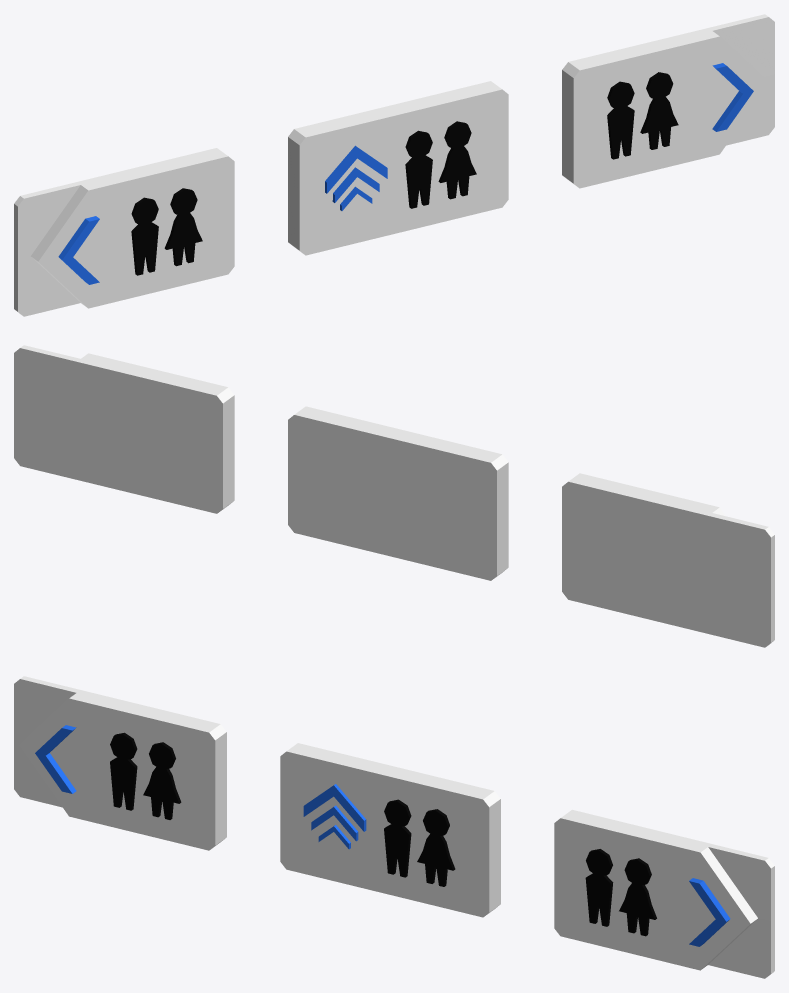
File: PaiHongnam_WhiteBlueBlack.fbx
3 renders of one model, top to bottom at view 1: azimuth 30°, elevation 25°; view 2: azimuth 150°, elevation 25°; view 3: azimuth 330°, elevation 25°, orthographic.
Parts seen in each view (by area): view 1: L_BasePai, F_BasePai, R_BasePai, L_Women, F_Women, R_Women, R_Men, F_Men, L_Men, L_Looksorn, R_Looksorn, F_Looksorn3; view 2: F_BasePai, R_BasePai, L_BasePai; view 3: R_BasePai, F_BasePai, L_BasePai, R_Women, F_Women, L_Women, F_Men, L_Men, R_Men, L_Looksorn, R_Looksorn, F_Looksorn3 (+1 smaller).
Boxes of the visible parts, left/top/right/bottom form: L_BasePai: left=14, top=148, right=234, bottom=316; F_BasePai: left=288, top=81, right=508, bottom=255; R_BasePai: left=562, top=14, right=774, bottom=188; L_Women: left=164, top=188, right=202, bottom=266; F_Women: left=438, top=121, right=476, bottom=199; R_Women: left=640, top=72, right=678, bottom=149; R_Men: left=607, top=81, right=634, bottom=159; F_Men: left=405, top=130, right=432, bottom=208; L_Men: left=131, top=197, right=158, bottom=275; L_Looksorn: left=58, top=216, right=99, bottom=284; R_Looksorn: left=712, top=63, right=753, bottom=131; F_Looksorn3: left=325, top=145, right=387, bottom=193; F_BasePai: left=288, top=406, right=508, bottom=580; R_BasePai: left=14, top=345, right=234, bottom=513; L_BasePai: left=562, top=473, right=774, bottom=647; R_BasePai: left=554, top=809, right=774, bottom=978; F_BasePai: left=280, top=743, right=500, bottom=917; L_BasePai: left=14, top=676, right=226, bottom=850; R_Women: left=619, top=858, right=656, bottom=936; F_Women: left=417, top=809, right=455, bottom=886; L_Women: left=143, top=742, right=181, bottom=819; F_Men: left=384, top=799, right=411, bottom=877; L_Men: left=110, top=732, right=137, bottom=810; R_Men: left=585, top=849, right=613, bottom=926; L_Looksorn: left=35, top=725, right=76, bottom=793; R_Looksorn: left=689, top=878, right=730, bottom=946; F_Looksorn3: left=303, top=784, right=366, bottom=831.
Bounding box in the file's own units: 1342 × 200 × 48.17.
